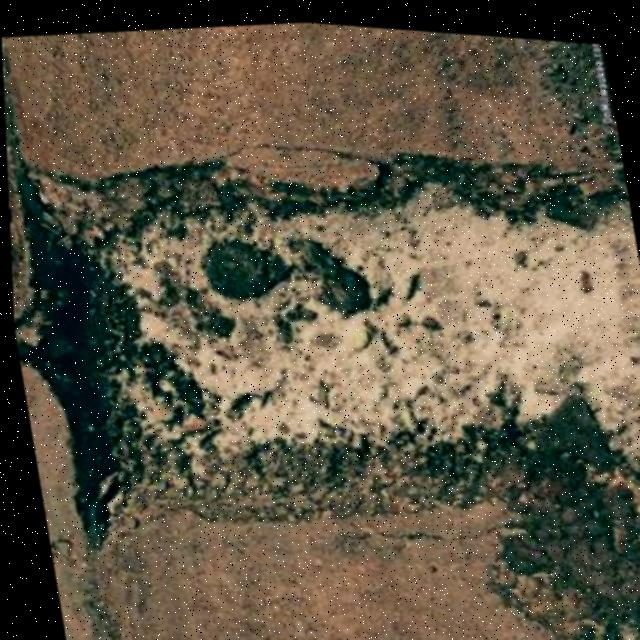Pothole: (3, 82, 640, 602)
